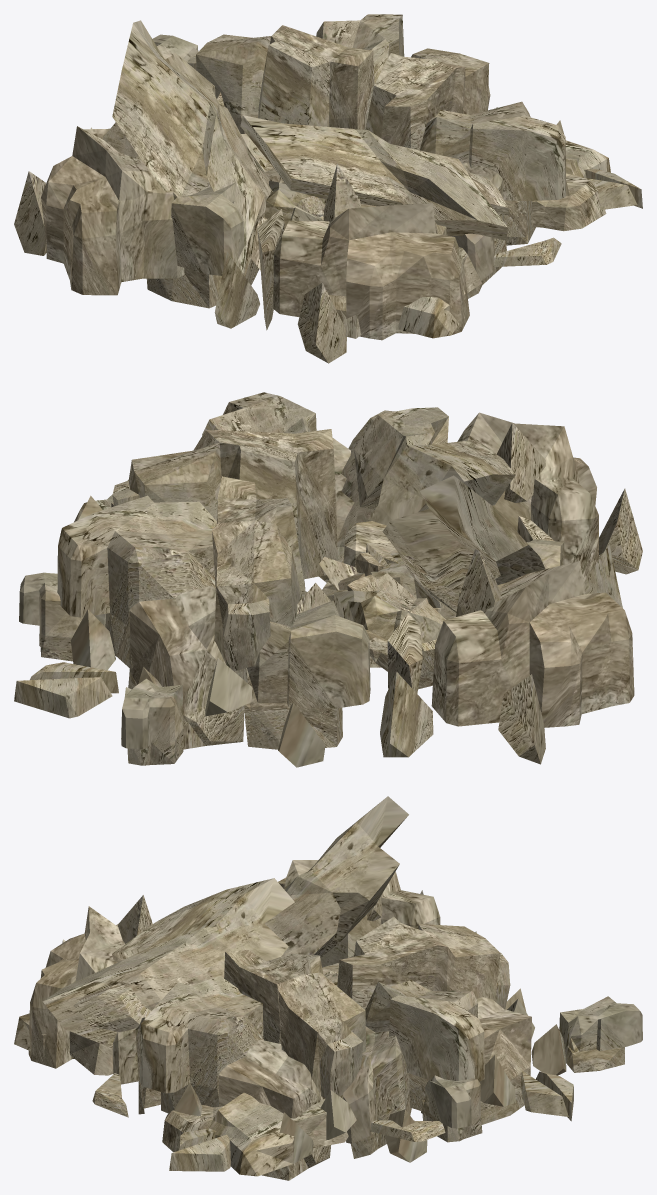
The model's file is TW2_5_TOWER_04_6-transformed.glb.
3 renders of one model, top to bottom at view 1: azimuth 30°, elevation 25°; view 2: azimuth 150°, elevation 25°; view 3: azimuth 270°, elevation 25°, orthographic. The views are drawn at different scales.
Visible parts, largest first — view 1: default; view 2: default; view 3: default.
Part boxes in pixels (bbox=[...]): default: bbox=[14, 14, 642, 363]; default: bbox=[14, 392, 642, 767]; default: bbox=[14, 796, 642, 1180].
Bounding box in the file's own units: 8.22 × 3.7 × 9.1.
1 material, 1 textured.
